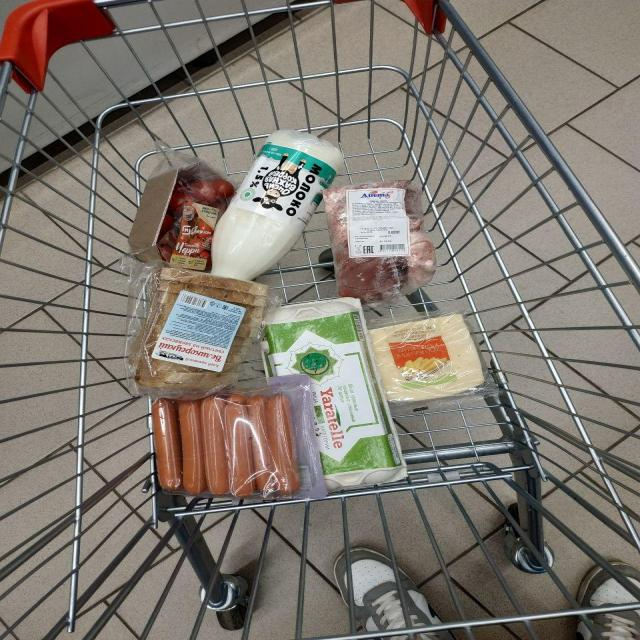Bread: (128, 266, 268, 399)
Cheese: (368, 314, 485, 401)
Eggs: (262, 298, 407, 489)
Meat: (323, 180, 435, 306)
Milk: (212, 130, 343, 280)
Sausages: (155, 375, 327, 499)
Tomatoes: (188, 180, 218, 204), (168, 191, 190, 216), (213, 179, 235, 199), (160, 214, 175, 234)
